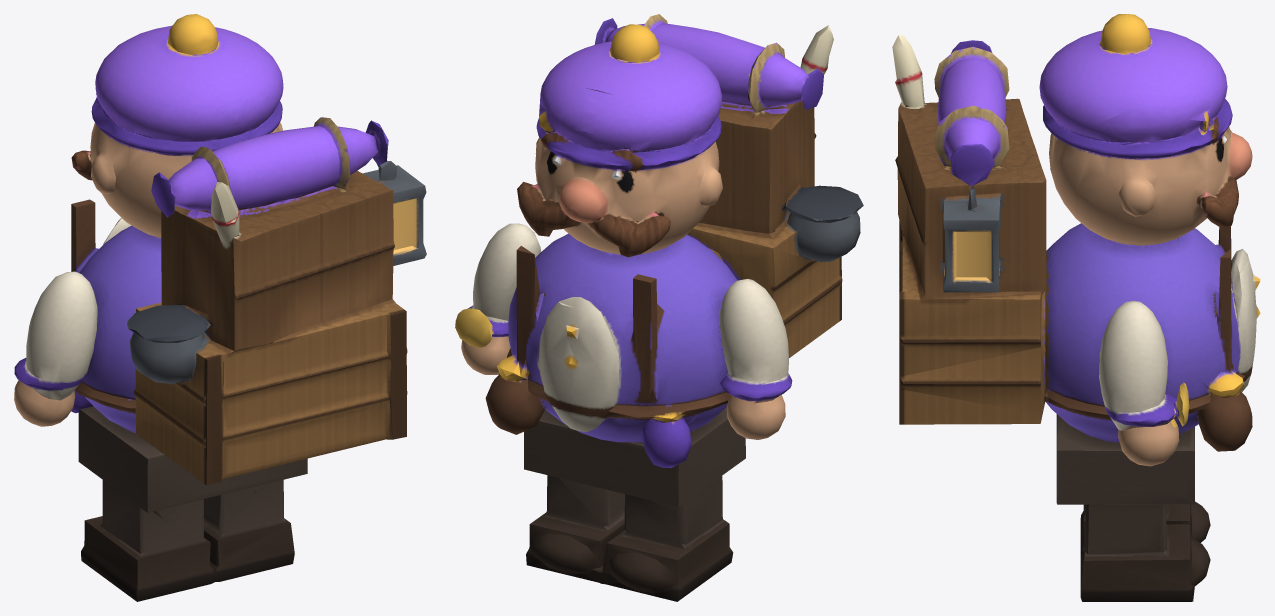
File: Pell.fbx
3 views of the same model, side by side, from view 1: azimuth 30°, elevation 25°; view 2: azimuth 150°, elevation 25°; view 3: azimuth 270°, elevation 25° (orthographic). The views are drawn at different scales.
Visible parts, largest first — view 1: Torso, Head, Hips, ArmL; view 2: Torso, Head, Hips, ArmL, ArmR; view 3: Torso, Head, Hips, ArmR.
Boxes of the visible parts, x1=… form: Torso: x1=71, y1=117, x2=426, y2=485; Head: x1=71, y1=14, x2=283, y2=238; Hips: x1=78, y1=406, x2=307, y2=601; ArmL: x1=14, y1=271, x2=97, y2=426; Torso: x1=485, y1=14, x2=863, y2=467; Head: x1=517, y1=24, x2=722, y2=257; Hips: x1=524, y1=407, x2=745, y2=601; ArmL: x1=719, y1=278, x2=792, y2=439; ArmR: x1=455, y1=223, x2=541, y2=374; Torso: x1=892, y1=35, x2=1260, y2=451; Head: x1=1039, y1=14, x2=1252, y2=245; Hips: x1=1056, y1=414, x2=1210, y2=601; ArmR: x1=1099, y1=300, x2=1189, y2=466.
Size of the model in its own units: 4.96 by 7.87 by 4.79.
1 material, 1 textured.
